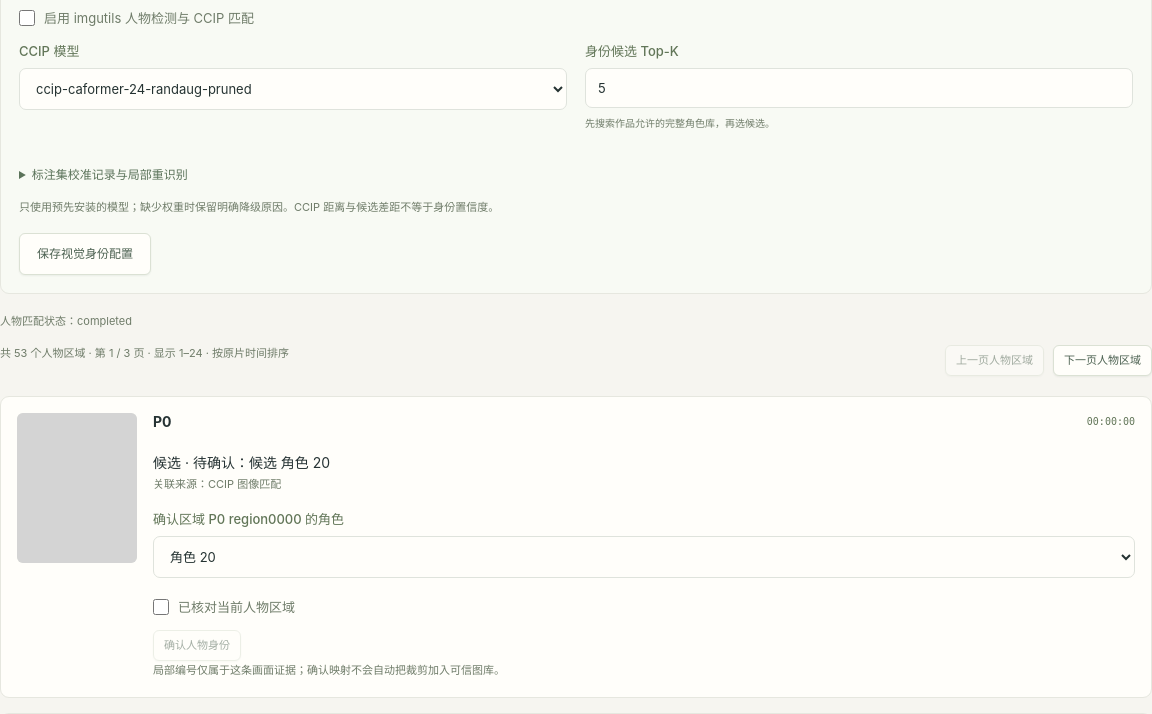
Scenario: Visual identity region pagination › clamps the current page when refreshed results shrink
(page scrolled)
Click the button "下一页人物区域": (1102, 360) [1053, 345, 1151, 376]
(page scrolled)
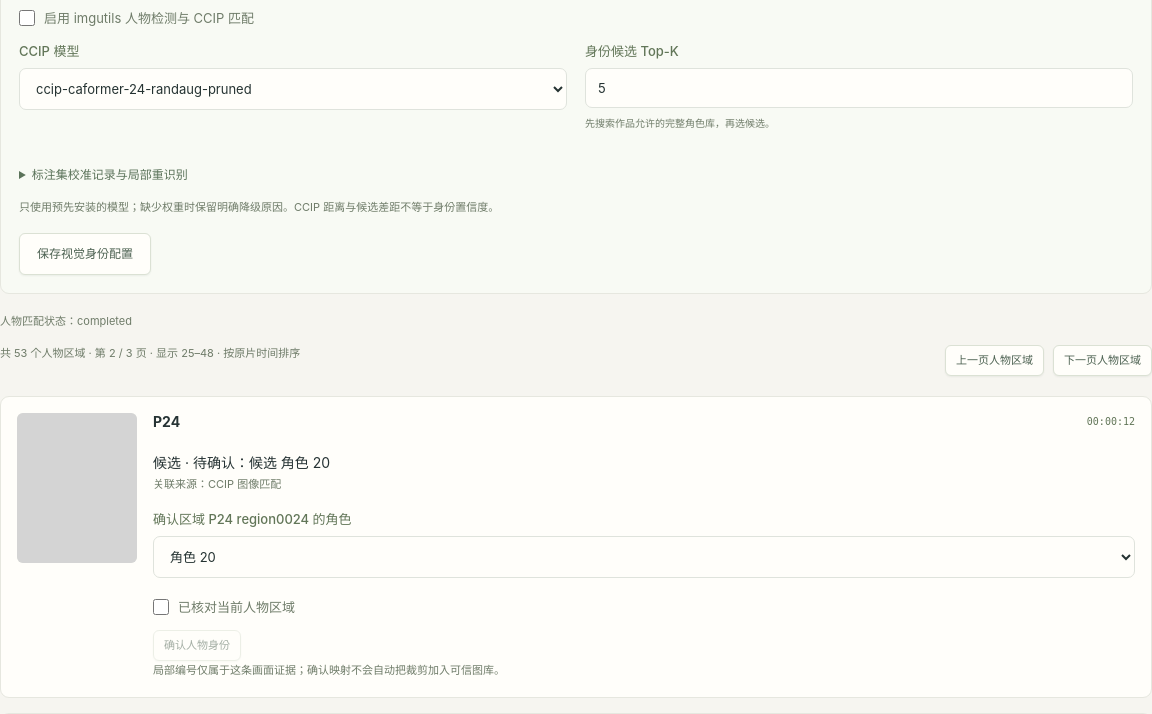
Click the button "下一页人物区域": (1102, 360) [1053, 345, 1151, 376]
(page scrolled)
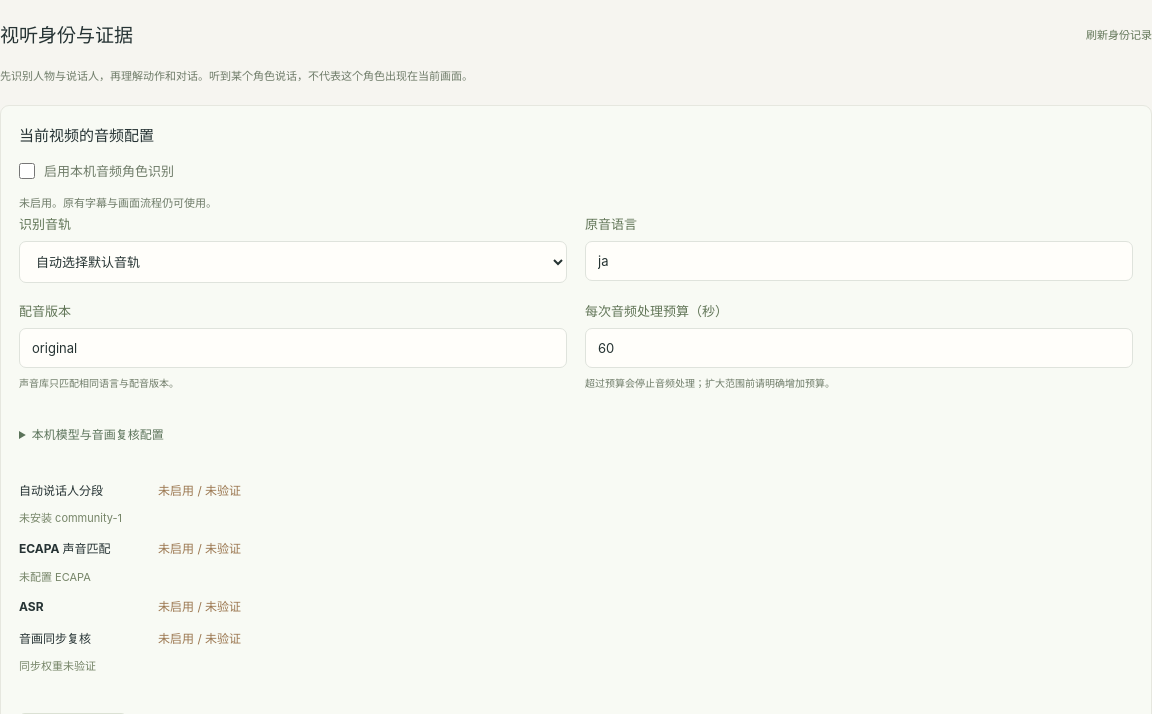
Click the button "刷新身份记录": (1119, 34) [1086, 20, 1151, 46]
(page scrolled)
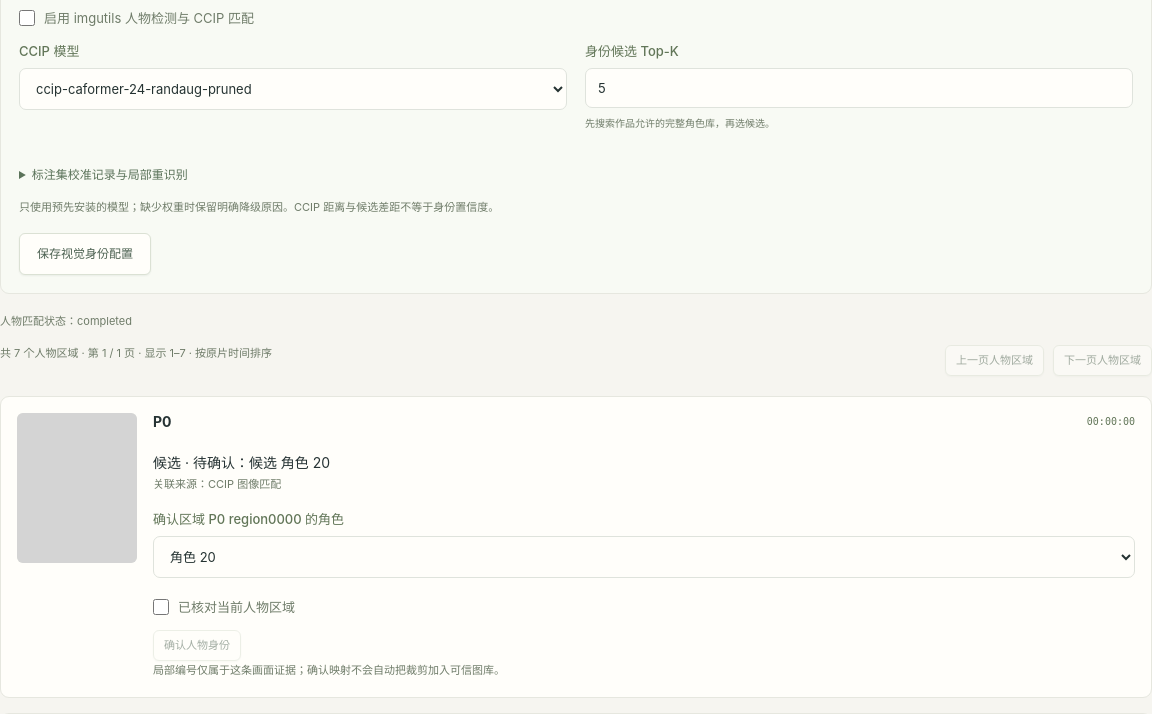
Now the text "共 7 个人物区域 · 第 1 / 1 页 · 显示 1–7 · 按原片时间排序" is shown, box [0, 344, 272, 364]
Now the number of elements "人物区域 " is 7
Now the button "上一页人物区域" is disabled, box [945, 345, 1044, 376]
